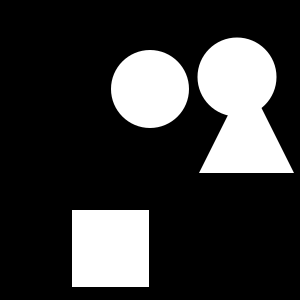circle: (72, 210, 149, 287)
rectangle: (198, 38, 276, 116), (111, 50, 189, 128)
triangle: (199, 78, 294, 173)
